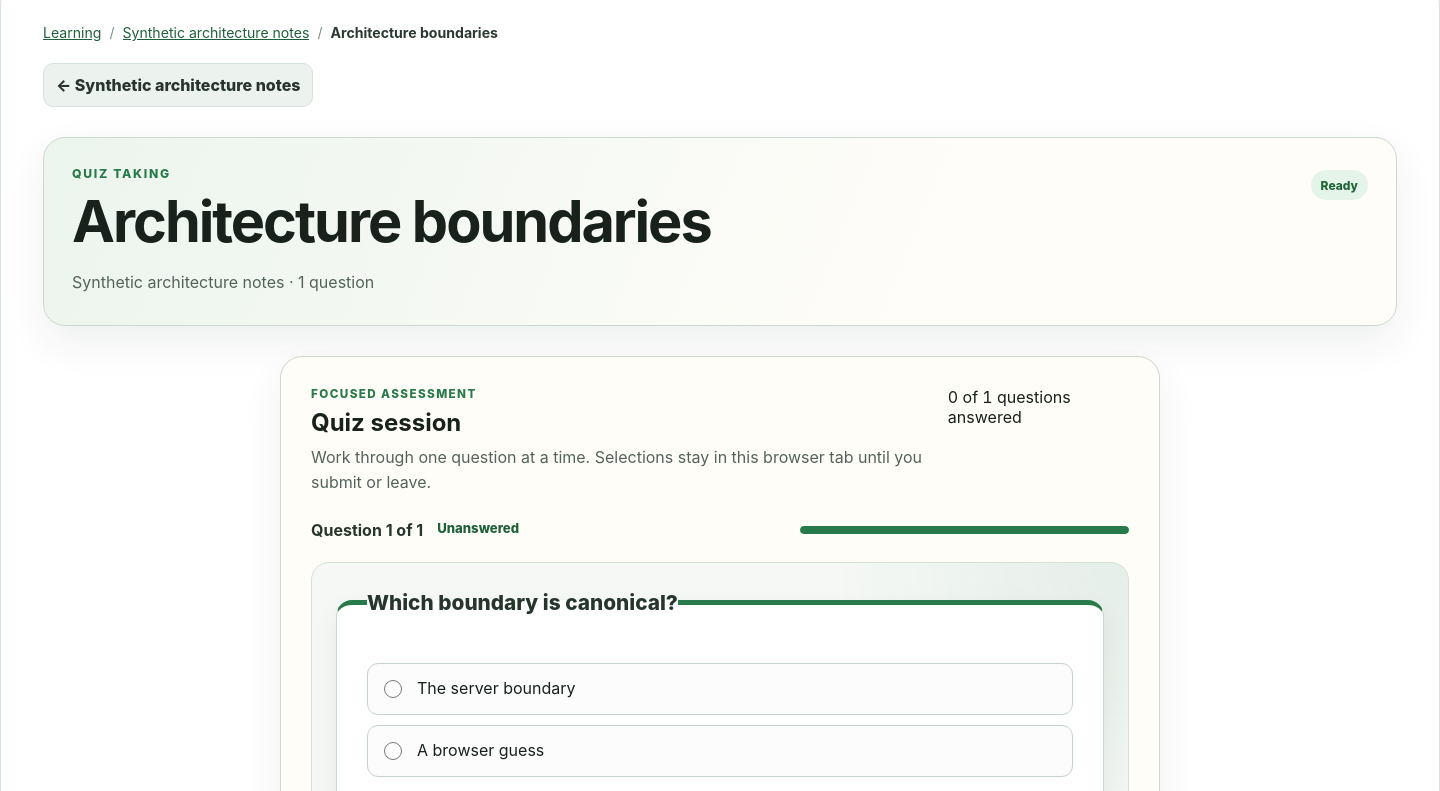
Test case: Learning quiz workspace › hides attempt history while the current quiz has an active answer draft
Click the radio button labelled "The server boundary": click(393, 689) [384,680,402,698]
(page scrolled)
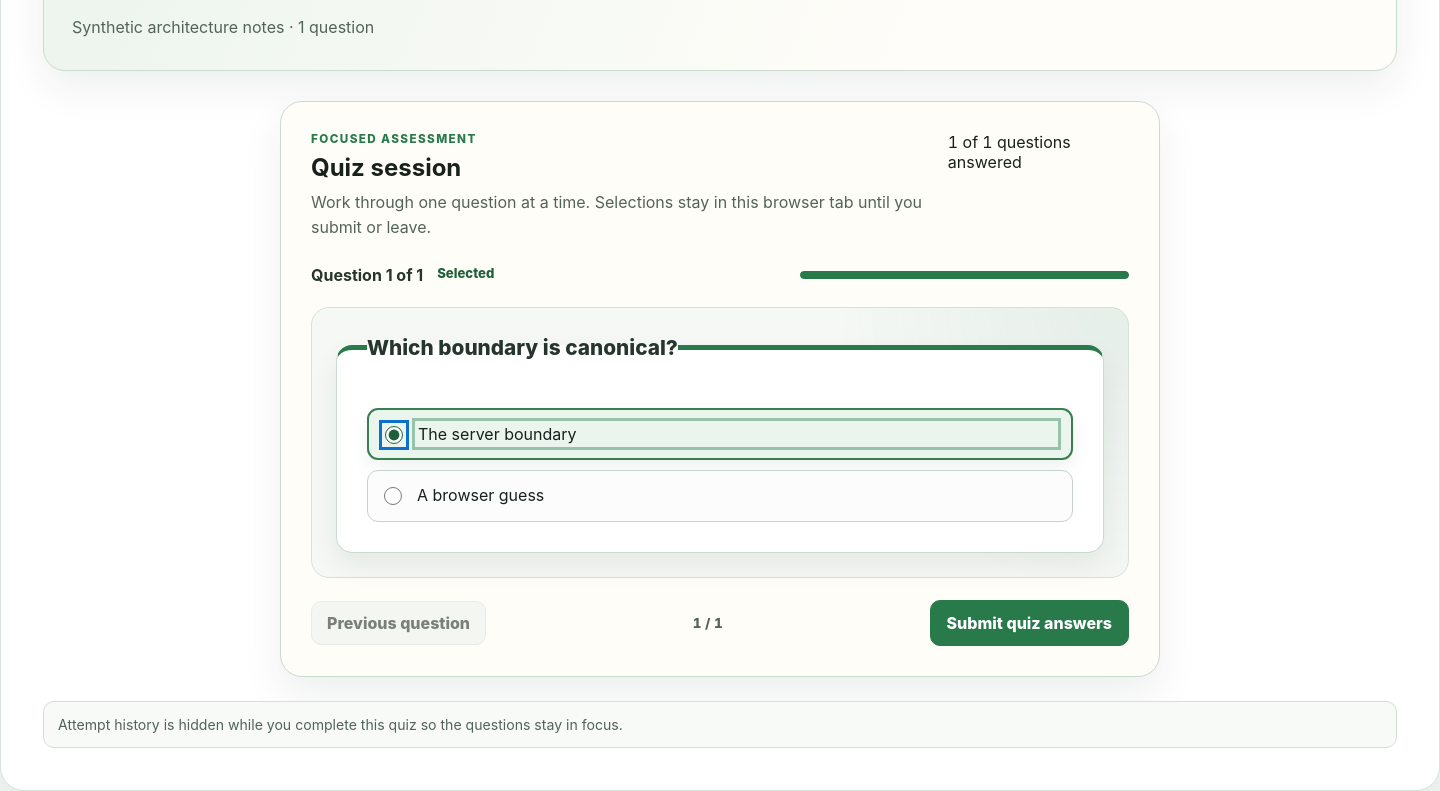
Now the text "Attempt history is hidden while you complete this quiz" is shown, box [58,716,623,733]
